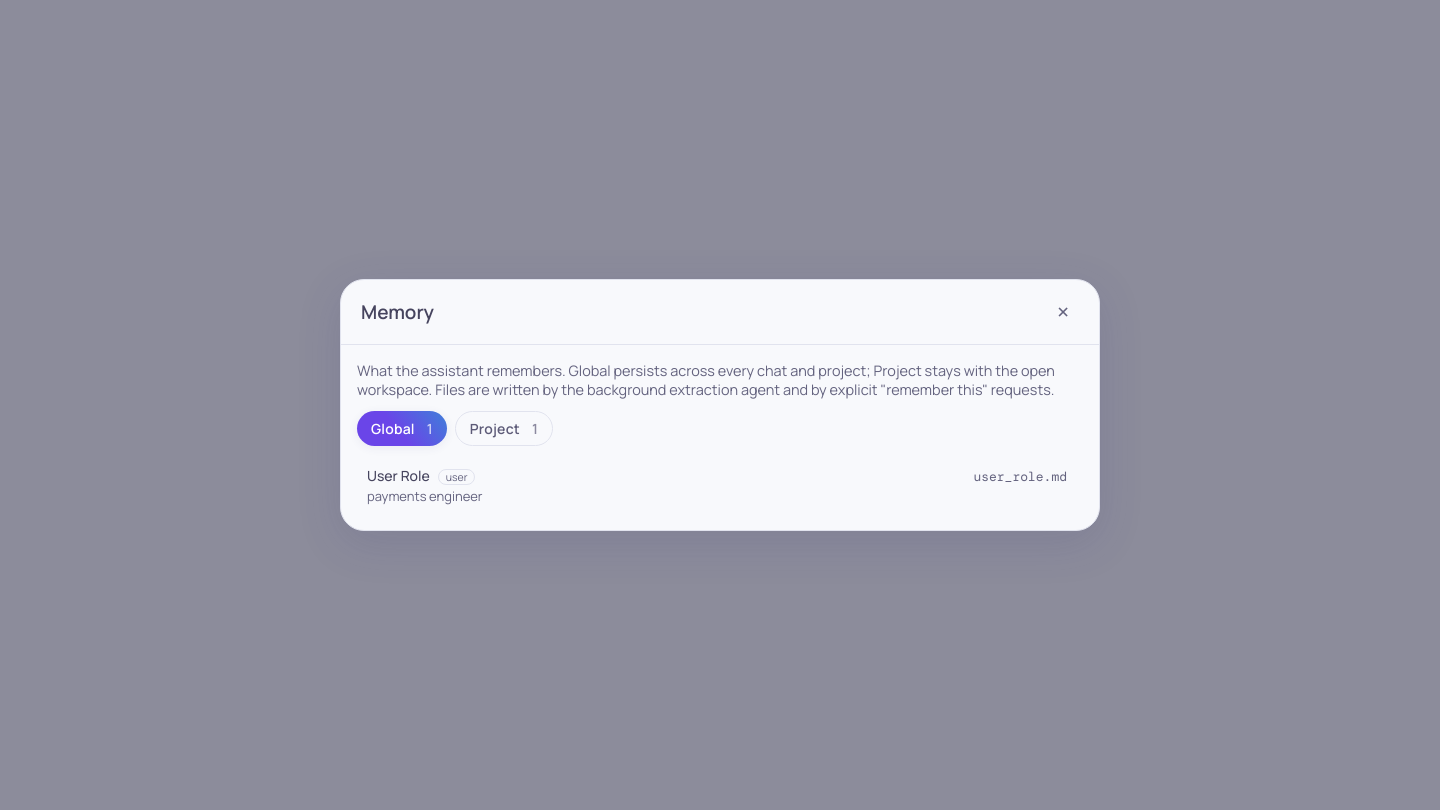
Scenario: MemoryViewerModal — two-tier browser › switches to the project tab and offers promote there
The image size is (1440, 810).
Check: the text "User Role" is shown, box [367,466,430,485]
Click the button "Project 1" at (504, 428), box [455,411,553,446]
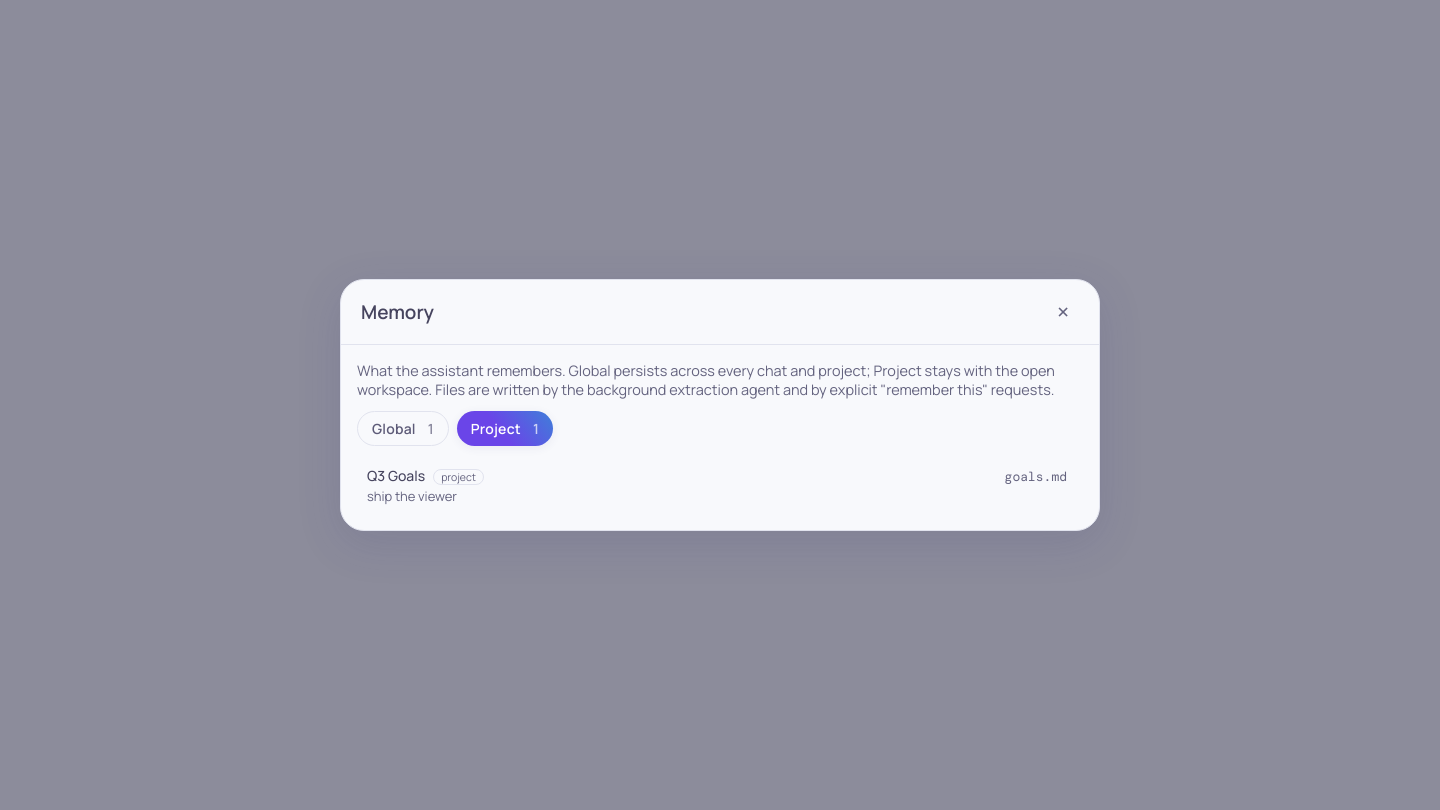
Check: the text "Q3 Goals" is shown
// Open the file: promote button appears for project scope
Click the text "Q3 Goals" at (396, 475), box [367,466,425,485]
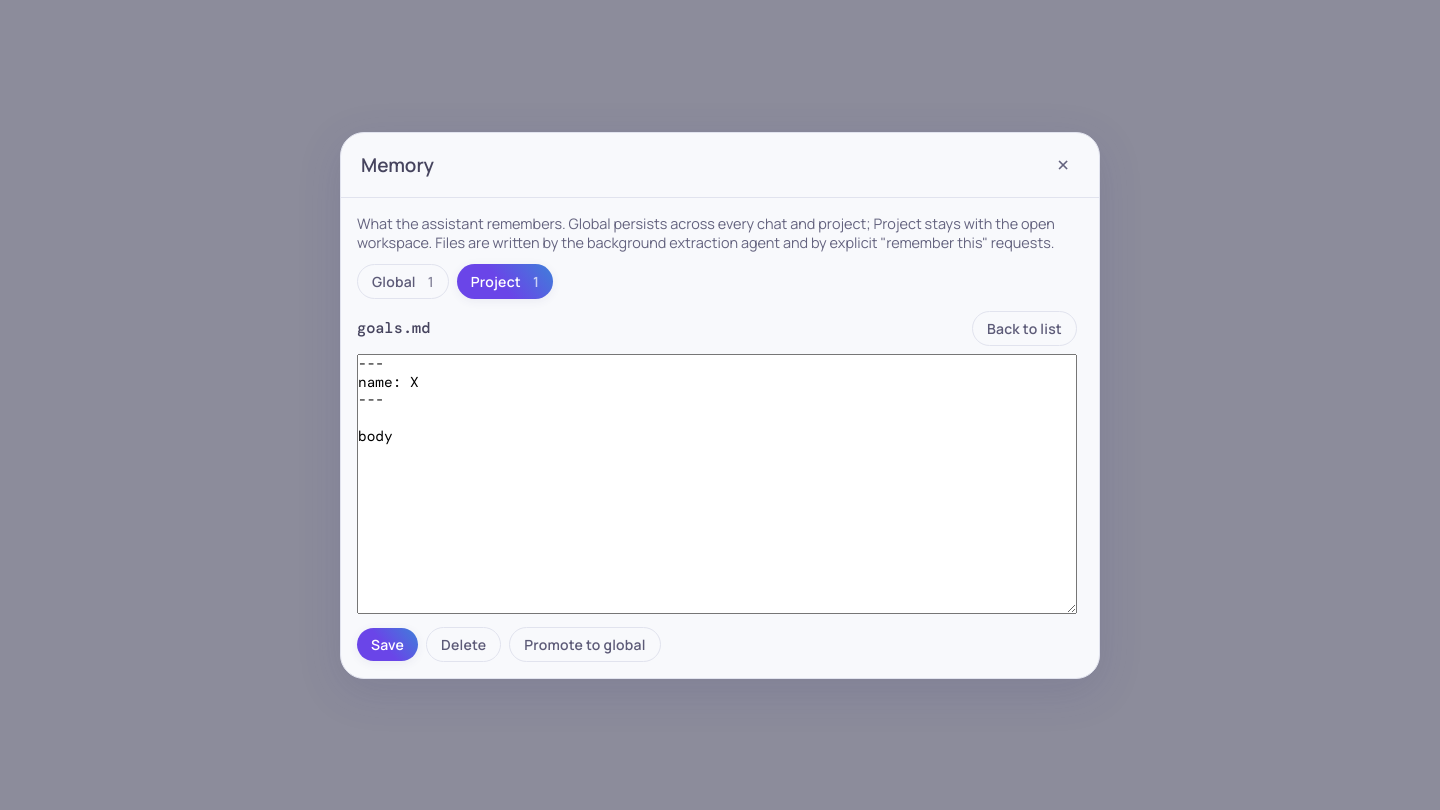
Check: the button "Promote to global" is shown, box [509,626,661,662]
